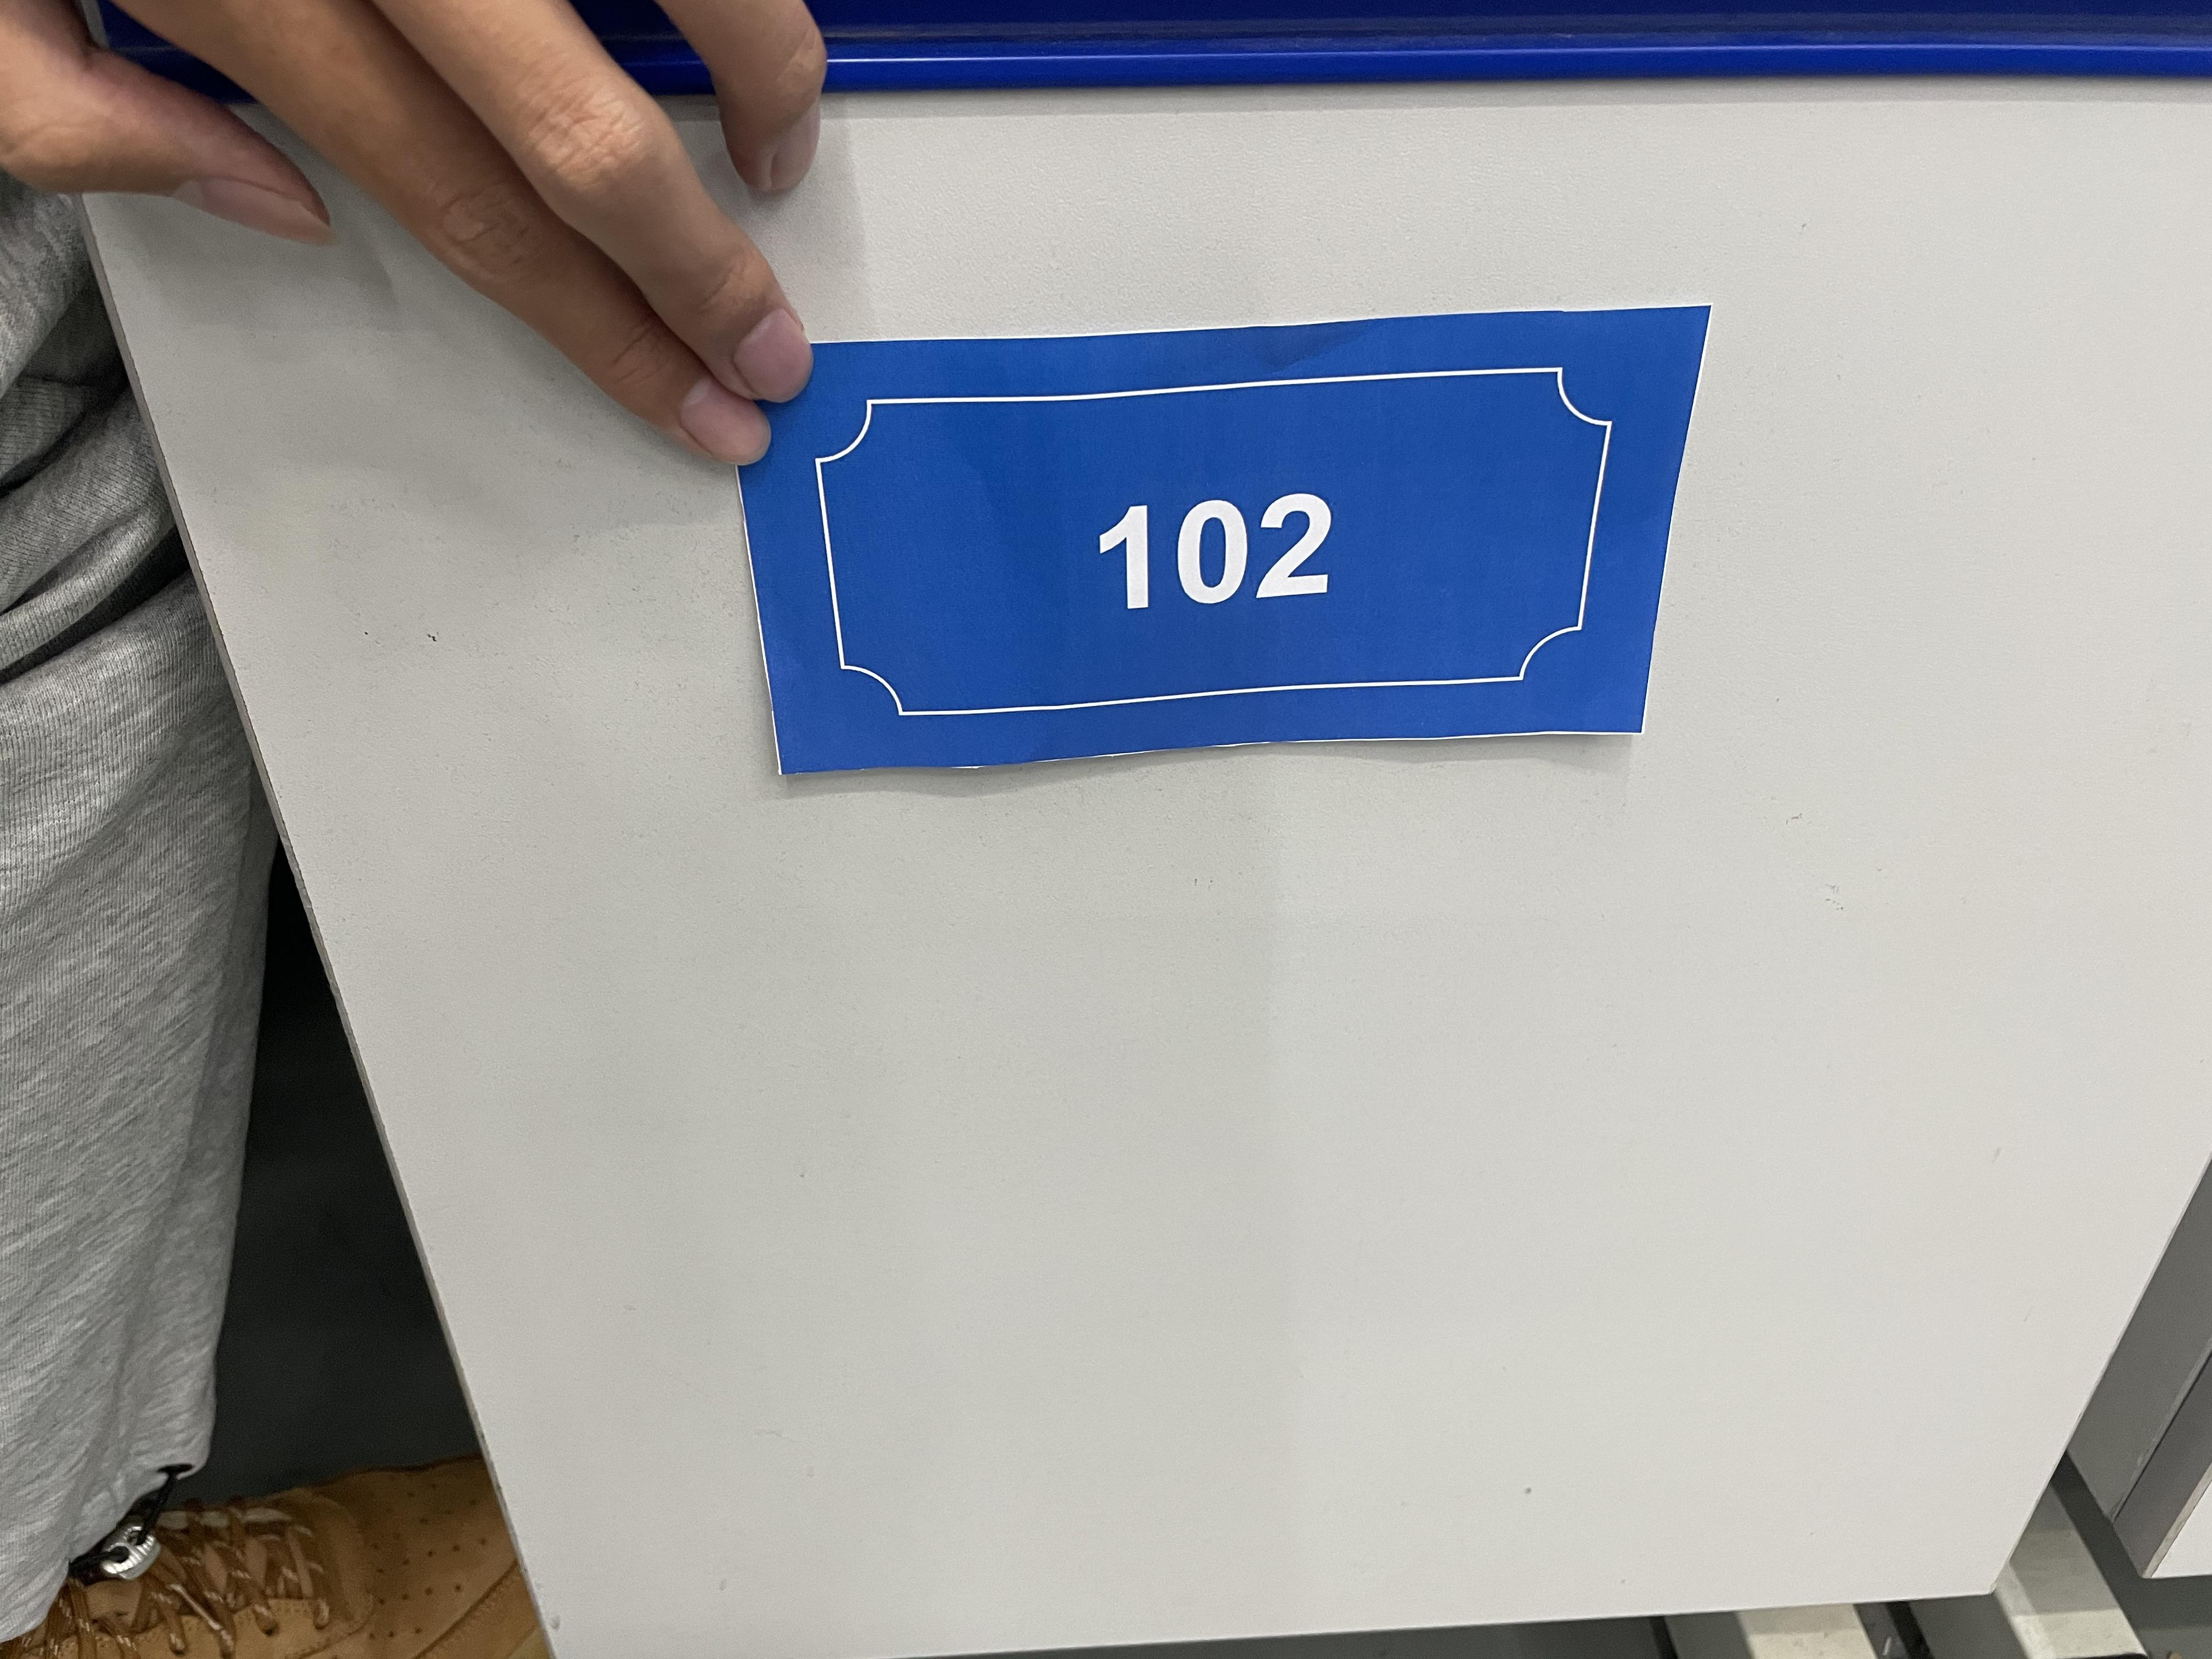Card: (738, 296, 1700, 798)
